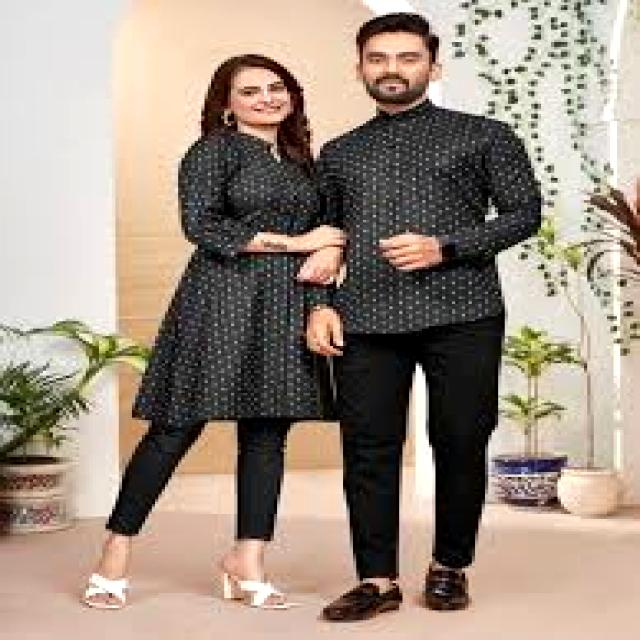dress: (132, 131, 329, 425)
face: (357, 33, 438, 106), (228, 67, 293, 128)
foot-wear: (218, 567, 294, 619), (324, 584, 402, 622), (423, 566, 471, 610), (83, 574, 128, 610)
lower-wear: (337, 317, 504, 578), (106, 423, 204, 536)
top-wear: (319, 107, 541, 320)
